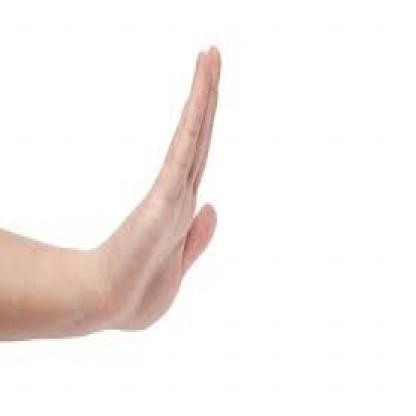stop: (112, 43, 228, 334)
